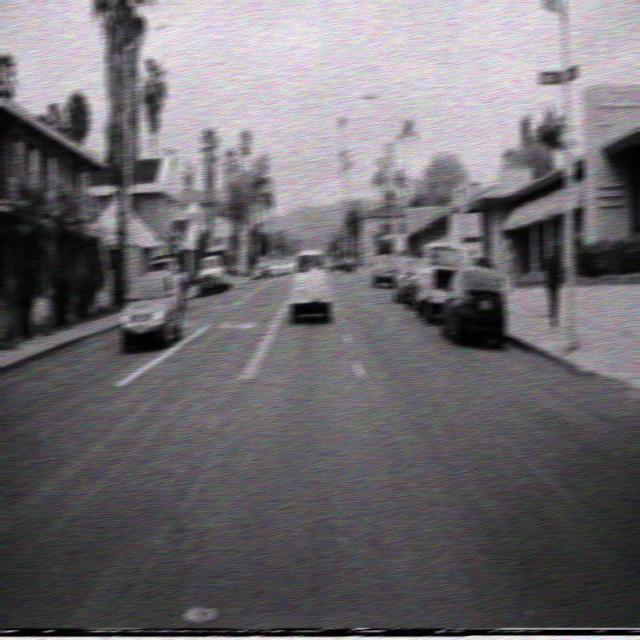pedestrianCrossing: (452, 175, 471, 210)
